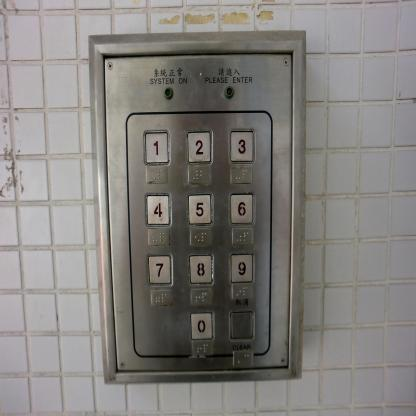0: (189, 310, 214, 342)
1: (143, 129, 171, 167)
2: (185, 128, 213, 165)
3: (228, 127, 256, 165)
4: (144, 190, 172, 228)
5: (186, 190, 214, 228)
6: (228, 190, 256, 228)
7: (146, 252, 174, 288)
8: (187, 251, 214, 287)
9: (228, 250, 255, 286)
empty: (229, 308, 254, 340)
